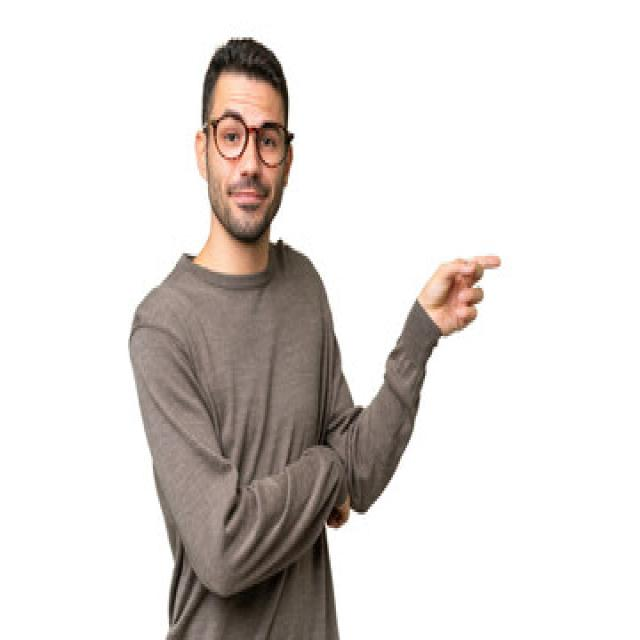person-without-mask: (105, 25, 538, 640)
